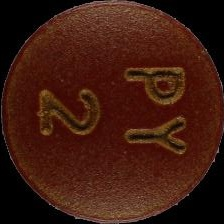51293-802: (0, 0, 224, 224)
